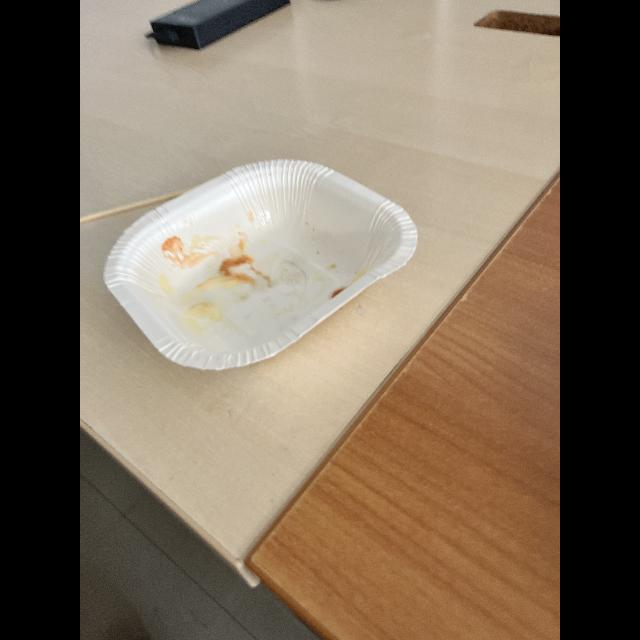cardboard_bowl: (106, 158, 420, 376)
stick: (80, 185, 198, 227)
